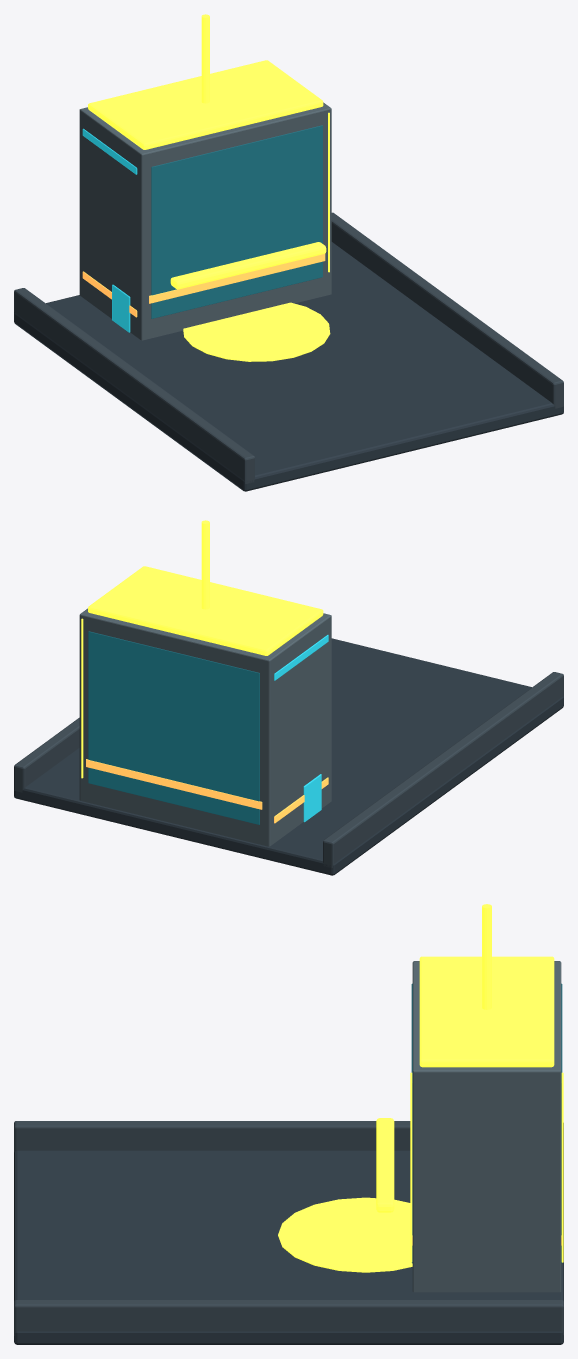
The model's file is destination_lod2.glb.
3 views of the same model, one above another, from view 1: azimuth 30°, elevation 25°; view 2: azimuth 150°, elevation 25°; view 3: azimuth 270°, elevation 25° (orthographic). The views are drawn at different scales.
Visible parts, largest first — view 1: ND_Batch_ND_RooftopMetal, ND_Batch_ND_DarkGlass, ND_Batch_ND_CityConcreteLight, ND_Batch_ND_PackageGold, ND_Batch_ND_CityConcrete, ND_Batch_ND_WarmWindow, ND_Batch_ND_NeonGlass; view 2: ND_Batch_ND_RooftopMetal, ND_Batch_ND_DarkGlass, ND_Batch_ND_CityConcreteLight, ND_Batch_ND_PackageGold, ND_Batch_ND_CityConcrete, ND_Batch_ND_WarmWindow, ND_Batch_ND_NeonGlass; view 3: ND_Batch_ND_RooftopMetal, ND_Batch_ND_CityConcreteLight, ND_Batch_ND_CityConcrete, ND_Batch_ND_PackageGold, ND_Batch_ND_DarkGlass.
Part boxes in pixels (x1,y1,x2,y2): ND_Batch_ND_RooftopMetal: (14,242,563,491); ND_Batch_ND_DarkGlass: (151,125,322,318); ND_Batch_ND_CityConcreteLight: (79,102,331,340); ND_Batch_ND_PackageGold: (88,14,330,361); ND_Batch_ND_CityConcrete: (14,212,563,484); ND_Batch_ND_WarmWindow: (82,254,325,317); ND_Batch_ND_NeonGlass: (82,128,137,332); ND_Batch_ND_RooftopMetal: (14,638,563,875); ND_Batch_ND_DarkGlass: (88,631,259,824); ND_Batch_ND_CityConcreteLight: (79,608,331,846); ND_Batch_ND_PackageGold: (81,520,323,778); ND_Batch_ND_CityConcrete: (14,672,563,868); ND_Batch_ND_WarmWindow: (86,759,328,823); ND_Batch_ND_NeonGlass: (274,635,328,822); ND_Batch_ND_RooftopMetal: (14,1150,563,1344); ND_Batch_ND_CityConcreteLight: (412,961,561,1292); ND_Batch_ND_CityConcrete: (14,1121,563,1335); ND_Batch_ND_PackageGold: (278,904,563,1272); ND_Batch_ND_DarkGlass: (411,983,562,1263).
Bounding box in the file's own units: 16 × 13.92 × 20.
